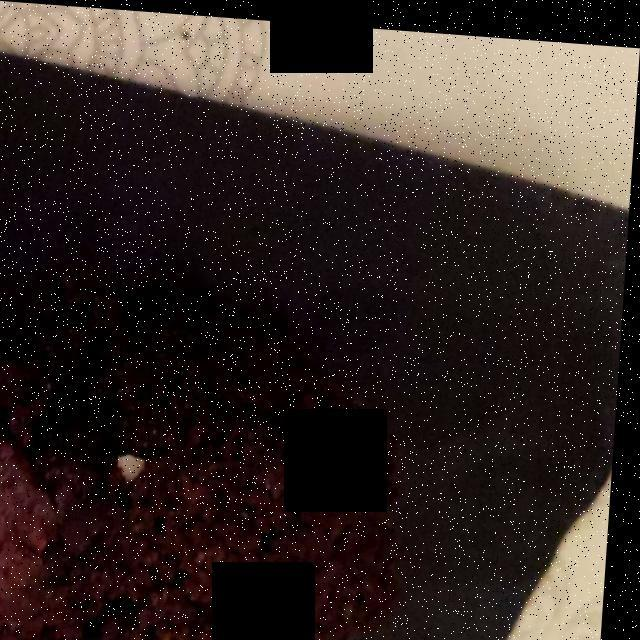brownie: (0, 388, 421, 640)
